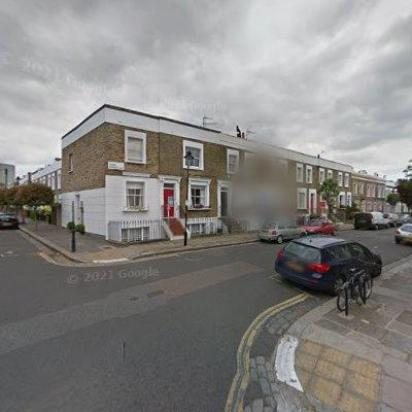stationary-bicycle-onstreet: (333, 264, 374, 316)
stationary-car-onstreet: (273, 234, 383, 290), (256, 219, 308, 243), (301, 218, 337, 236), (394, 222, 412, 248), (0, 211, 20, 228)
stationary-light-truck-onstreet: (352, 211, 389, 230)
